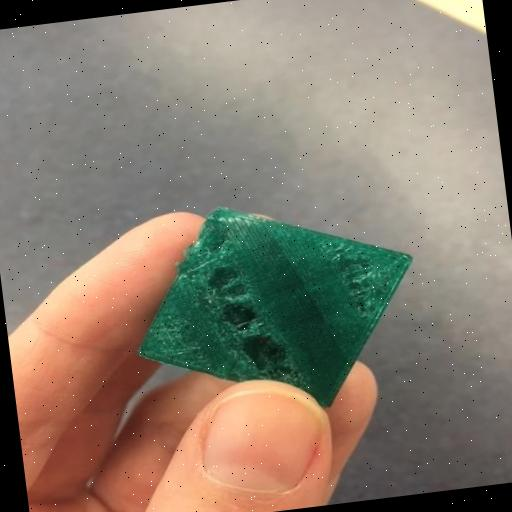cracks: (168, 222, 305, 394), (319, 231, 397, 324)
